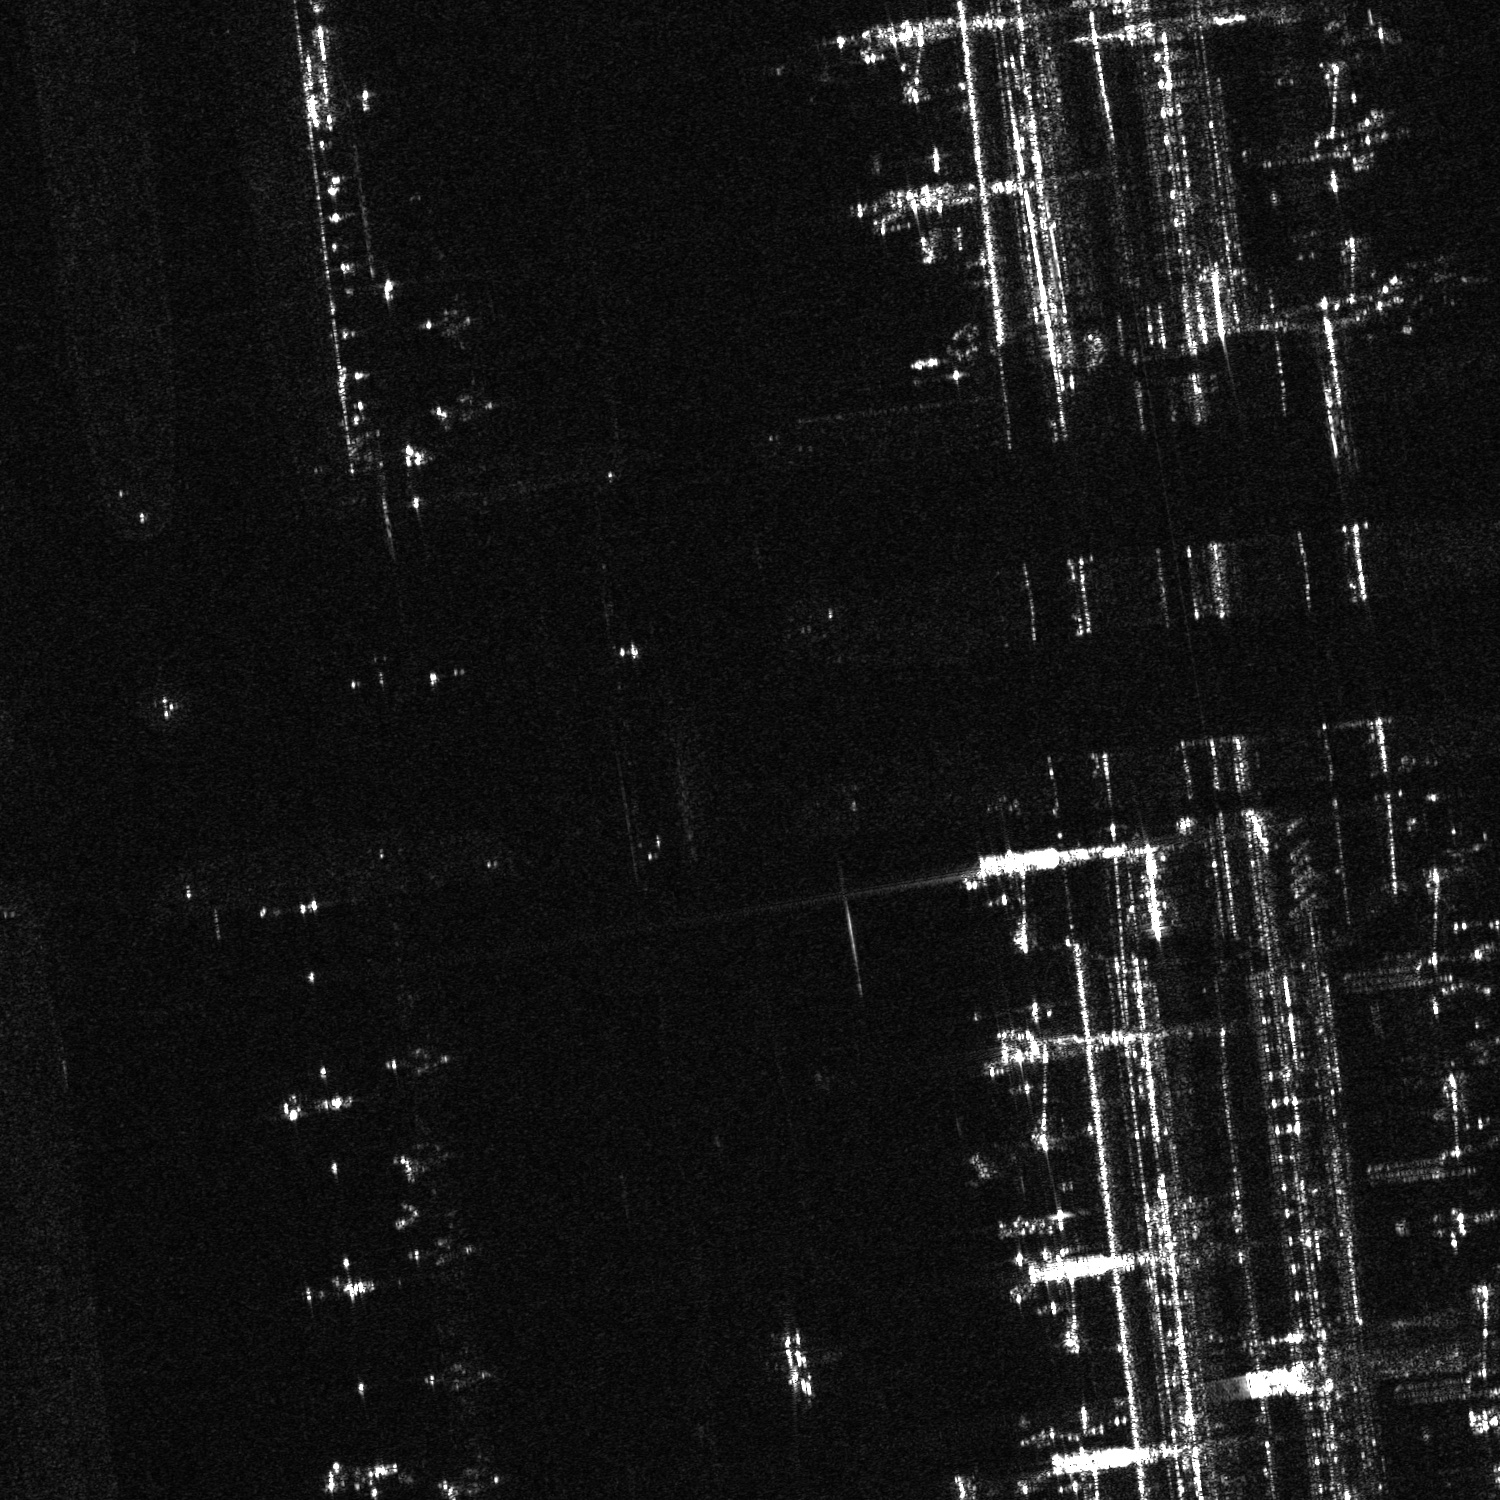Boeing737: (1402, 250, 1467, 308)
